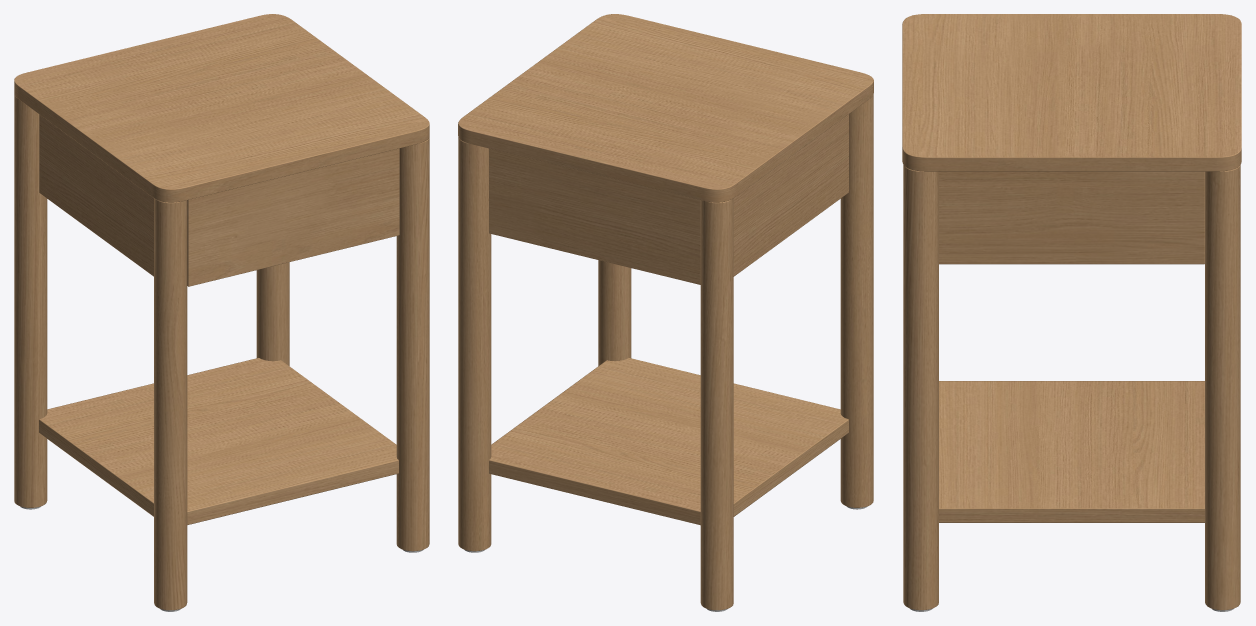
The model's file is tonstad_nightstand_oak_veneer.glb.
The picture shows the model from 3 angles, left to right: view 1: azimuth 30°, elevation 25°; view 2: azimuth 150°, elevation 25°; view 3: azimuth 270°, elevation 25°; orthographic projection. The views are drawn at different scales.
Visible parts, largest first — view 1: Mesh_0; view 2: Mesh_0; view 3: Mesh_0.
Boxes of the visible parts, left/top/right/bottom form: Mesh_0: left=14, top=14, right=429, bottom=611; Mesh_0: left=458, top=14, right=873, bottom=611; Mesh_0: left=902, top=14, right=1241, bottom=611.
Size of the model in its own units: 0.4001 by 0.5949 by 0.4001.
Materials: 2 (1 with a texture image).
